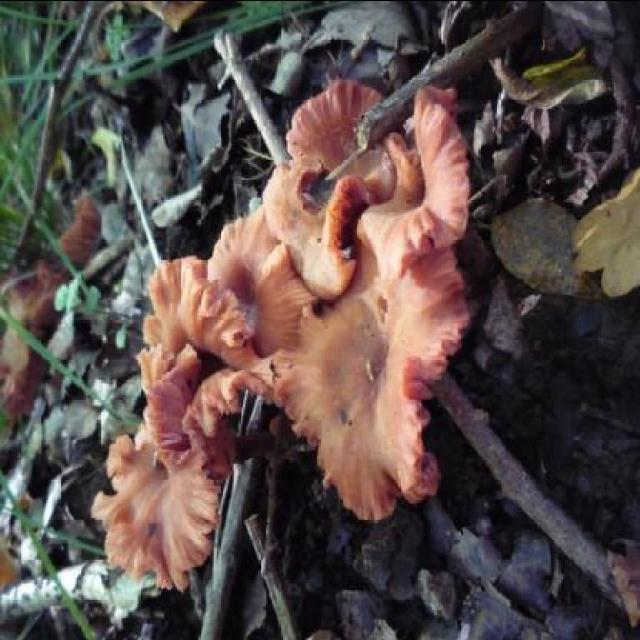Mushroom: (117, 132, 431, 576)
